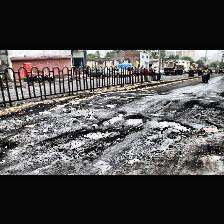pothole: (46, 128, 128, 146), (157, 119, 193, 131), (100, 111, 126, 125), (125, 114, 144, 124), (203, 126, 221, 132), (68, 106, 88, 110), (105, 102, 115, 108)
